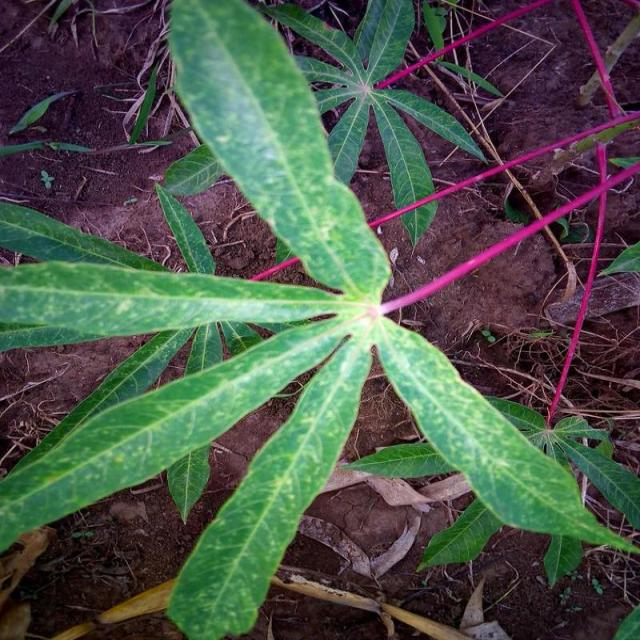cassava leaf: (2, 0, 638, 637), (166, 0, 394, 304)
